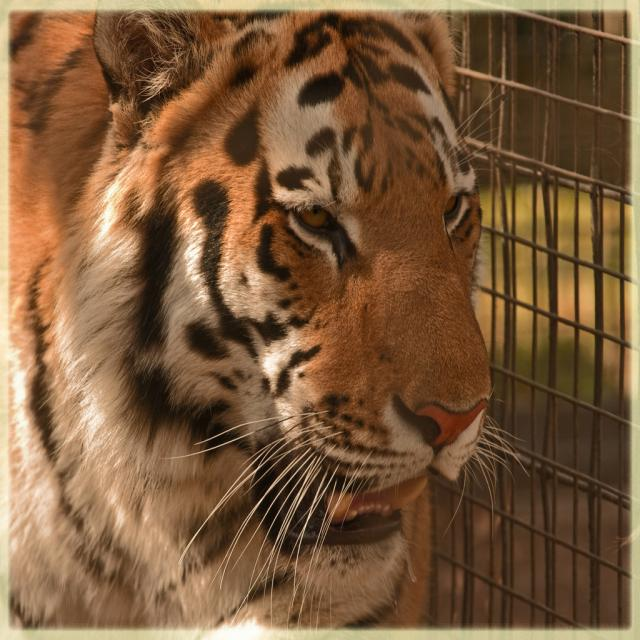Tiger: (7, 9, 493, 631)
